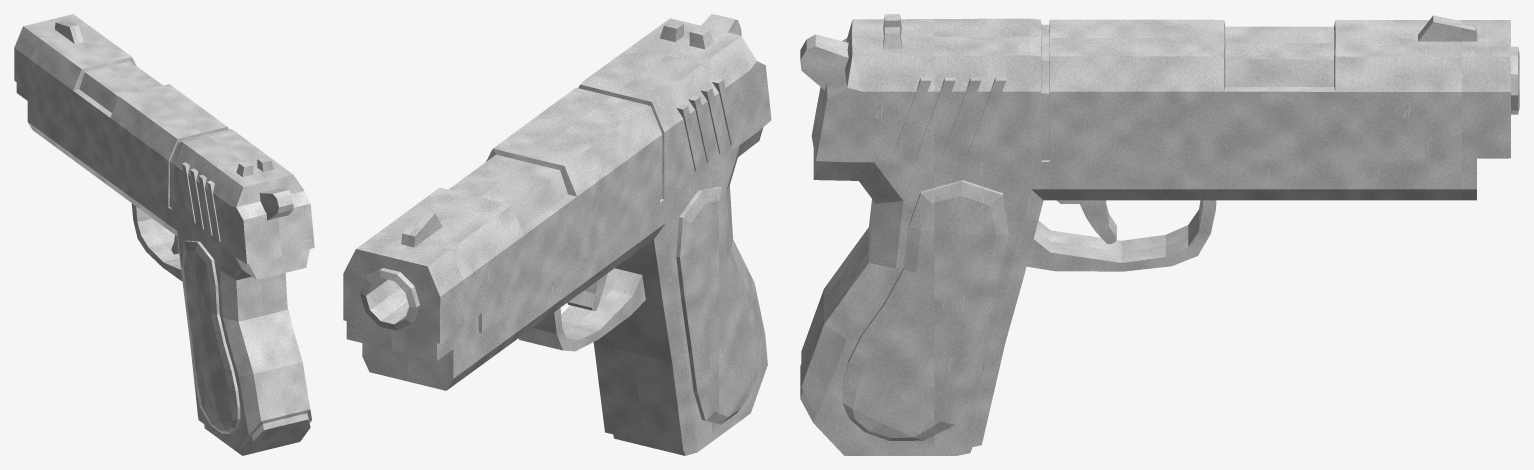
The model's file is pistol.obj.
3 views of the same model, side by side, from view 1: azimuth 30°, elevation 25°; view 2: azimuth 150°, elevation 25°; view 3: azimuth 270°, elevation 25° (orthographic). The views are drawn at different scales.
Visible parts, largest first — view 1: Pistol_1_Cube.204; view 2: Pistol_1_Cube.204; view 3: Pistol_1_Cube.204.
Boxes of the visible parts, <box> form: Pistol_1_Cube.204: <box>14,14,314,455</box>; Pistol_1_Cube.204: <box>343,14,771,455</box>; Pistol_1_Cube.204: <box>800,14,1519,455</box>.
Bounding box in the file's own units: 0.097 × 0.3485 × 0.5458.
5 materials, 5 textured.
